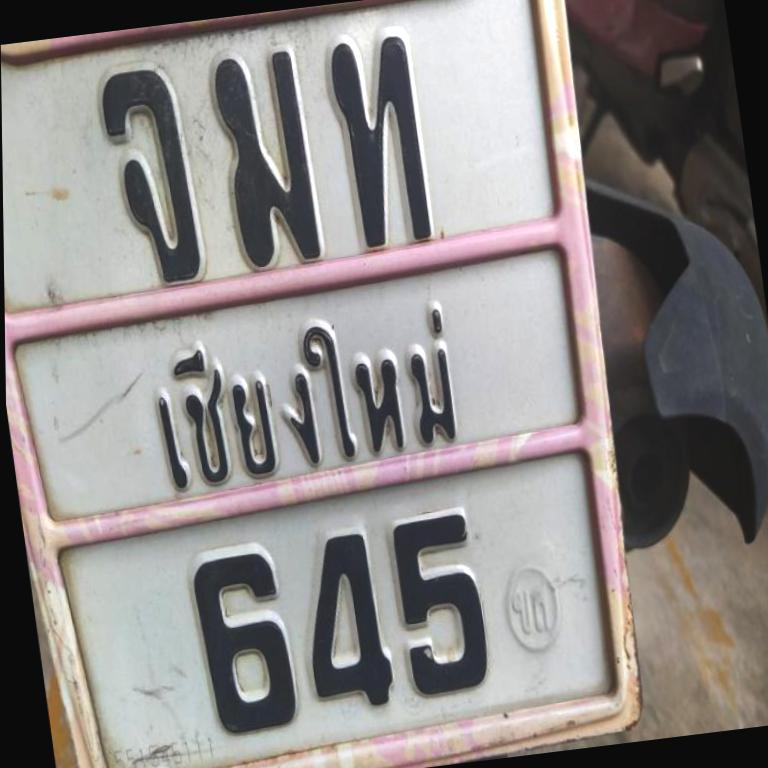license plate: (0, 0, 655, 768)
